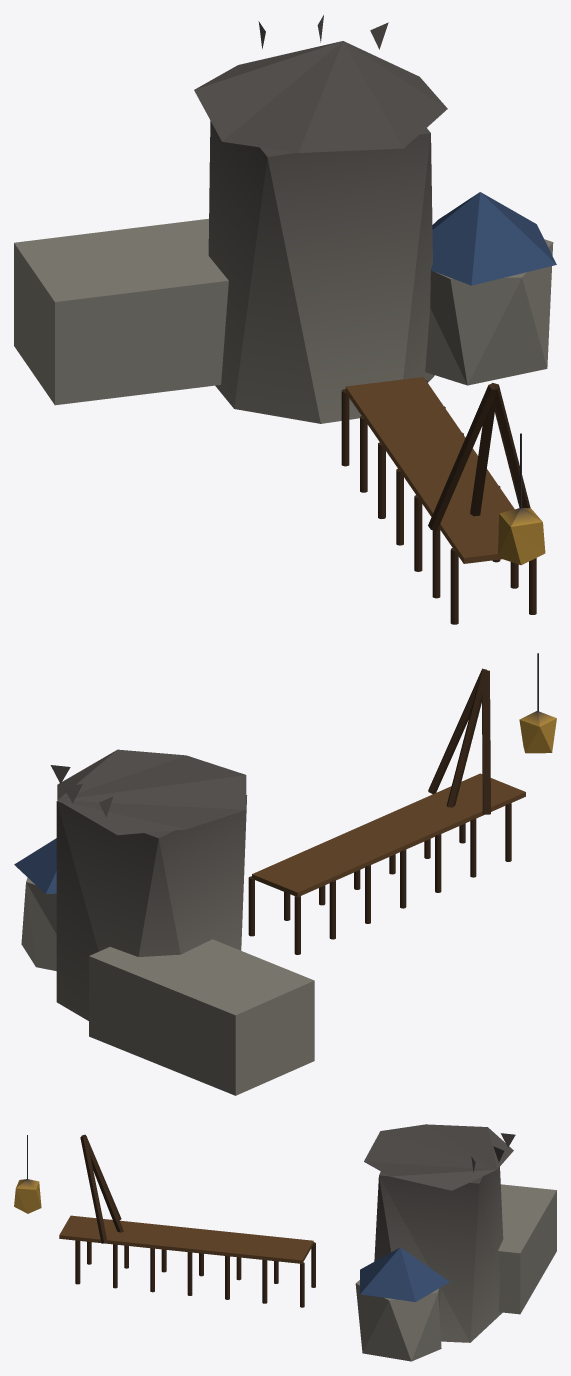
File: arch_saltwatch_keep_lod1.glb
The picture shows the model from 3 angles, top to bottom: view 1: azimuth 30°, elevation 25°; view 2: azimuth 150°, elevation 25°; view 3: azimuth 270°, elevation 25°; orthographic projection. The views are drawn at different scales.
Parts seen in each view (by area): view 1: geometry_0; view 2: geometry_0; view 3: geometry_0.
Part boxes in pixels (x1,y1,x2,y2): geometry_0: (14, 15, 556, 624); geometry_0: (14, 653, 556, 1095); geometry_0: (14, 1124, 556, 1361).
Size of the model in its own units: 30.78 by 20.8 by 56.42.
